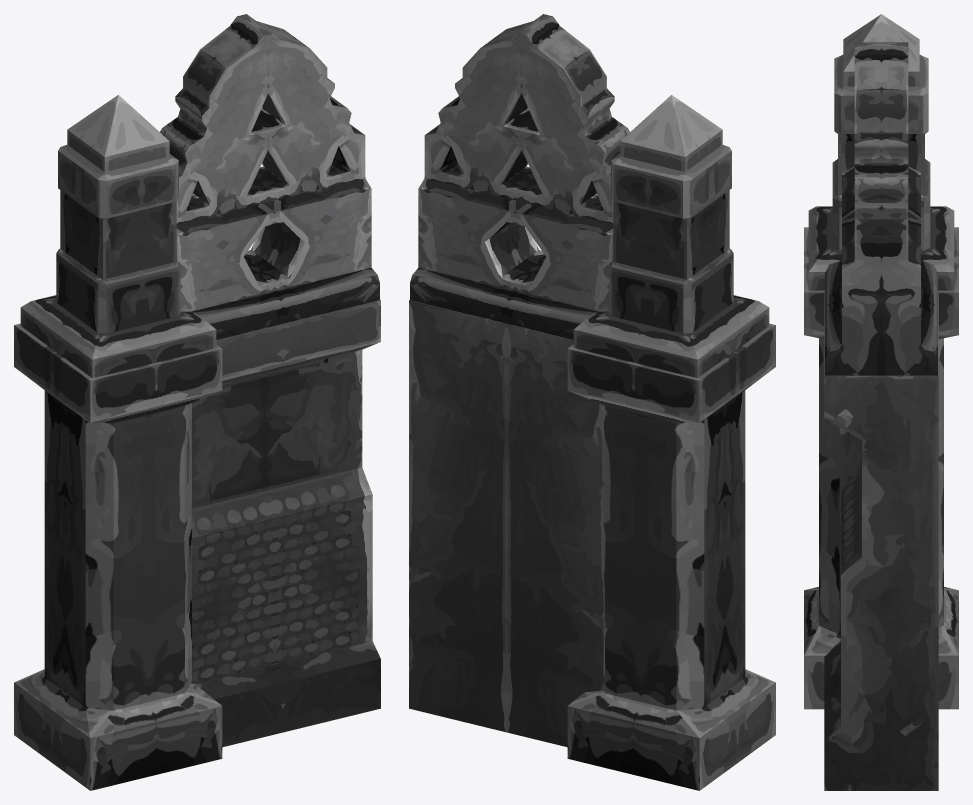
The model's file is VV-WalakuluBemma-10.fbx.
3 renders of one model, left to right at view 1: azimuth 30°, elevation 25°; view 2: azimuth 150°, elevation 25°; view 3: azimuth 270°, elevation 25°, orthographic.
Parts seen in each view (by area): view 1: WalakuluBemmaBuild-10; view 2: WalakuluBemmaBuild-10; view 3: WalakuluBemmaBuild-10.
Part boxes in pixels (<box>): WalakuluBemmaBuild-10: <box>14,14,380,790</box>; WalakuluBemmaBuild-10: <box>409,14,775,790</box>; WalakuluBemmaBuild-10: <box>804,14,958,790</box>.
Bounding box in the file's own units: 1.54 × 3.37 × 0.6766.
